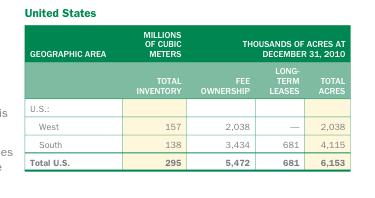table: (29, 28, 344, 167)
table column: (29, 28, 120, 167), (120, 28, 190, 167), (190, 28, 258, 167), (258, 28, 308, 167), (308, 28, 344, 167)
table column header: (29, 28, 344, 98)
table projected row header: (29, 98, 344, 116)
table row: (29, 61, 344, 98), (29, 28, 344, 61), (29, 116, 344, 135), (29, 98, 344, 116), (29, 135, 344, 153), (29, 153, 344, 167)
table spanning cell: (29, 28, 120, 98), (190, 28, 344, 61), (120, 28, 190, 98)
